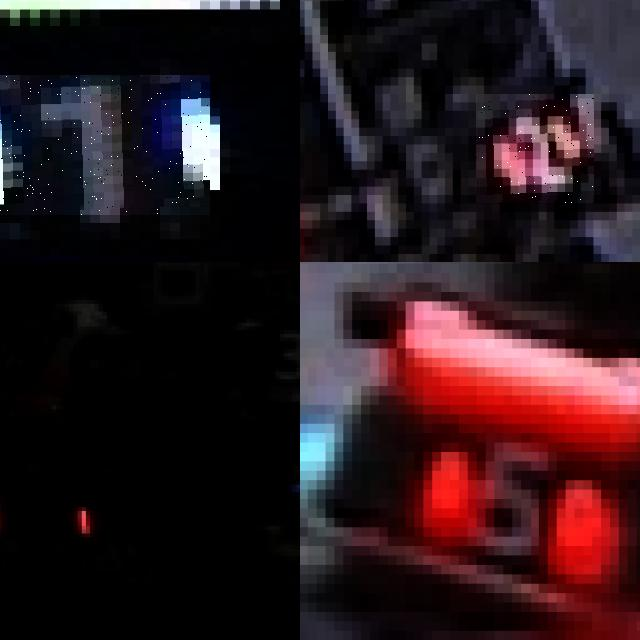B1: (0, 75, 210, 214)
R2: (476, 94, 594, 203)
R5: (397, 423, 619, 602)
